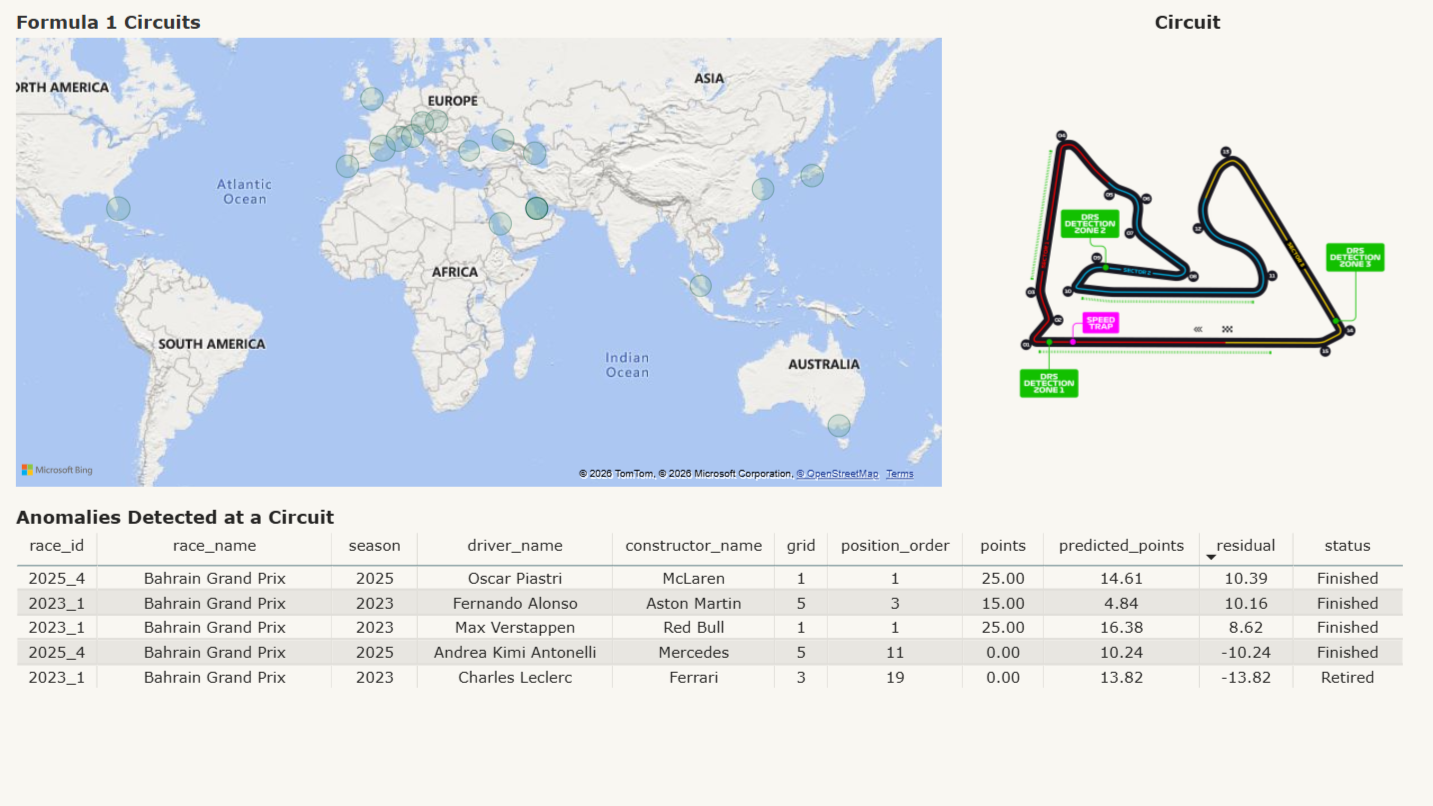

The page's visual inventory and layout, read from the dashboard file:
{"tool":"powerbi","page":{"name":"Circuit Map & Anomalies","canvas":[1280,720],"ordinal":2},"visuals":[{"type":"map","fields":{"Category":["model_results.circuit_name"],"Y":["Avg(model_results.lat)"],"X":["Avg(model_results.long)"],"Size":["Avg(model_results.points)"]},"box":[0,0,1011.6,427.9],"z":0},{"type":"tableEx","fields":{"Values":["model_results.race_name","model_results.season","model_results.driver_name","model_results.constructor_name","model_results.grid","model_results.position_order","model_results.points","model_results.predicted_points","model_results.residual","model_results.status"]},"box":[0,427.9,1011.6,291.9],"z":1},{"type":"actionButton","box":[0,0,100,40],"z":2}]}

Visuals, with their boxes in screenshot pixels (x1, y1, x2, y2), scaled from the page's 1280x720 canvas onto the 1433x806 screenshot:
map - model_results.circuit_name x Avg(model_results.lat): box=[0, 0, 1133, 479]
tableEx - model_results.race_name x model_results.season: box=[0, 479, 1133, 805]
actionButton: box=[0, 0, 112, 45]
